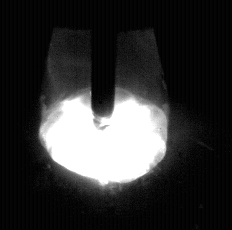arame: (92, 0, 116, 117)
poca: (38, 0, 169, 230)
